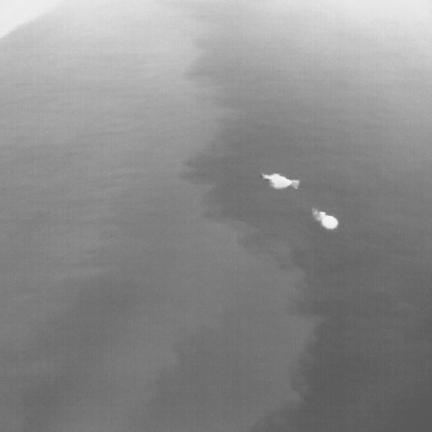flukeprints: (261, 173, 299, 189), (313, 208, 338, 229)
